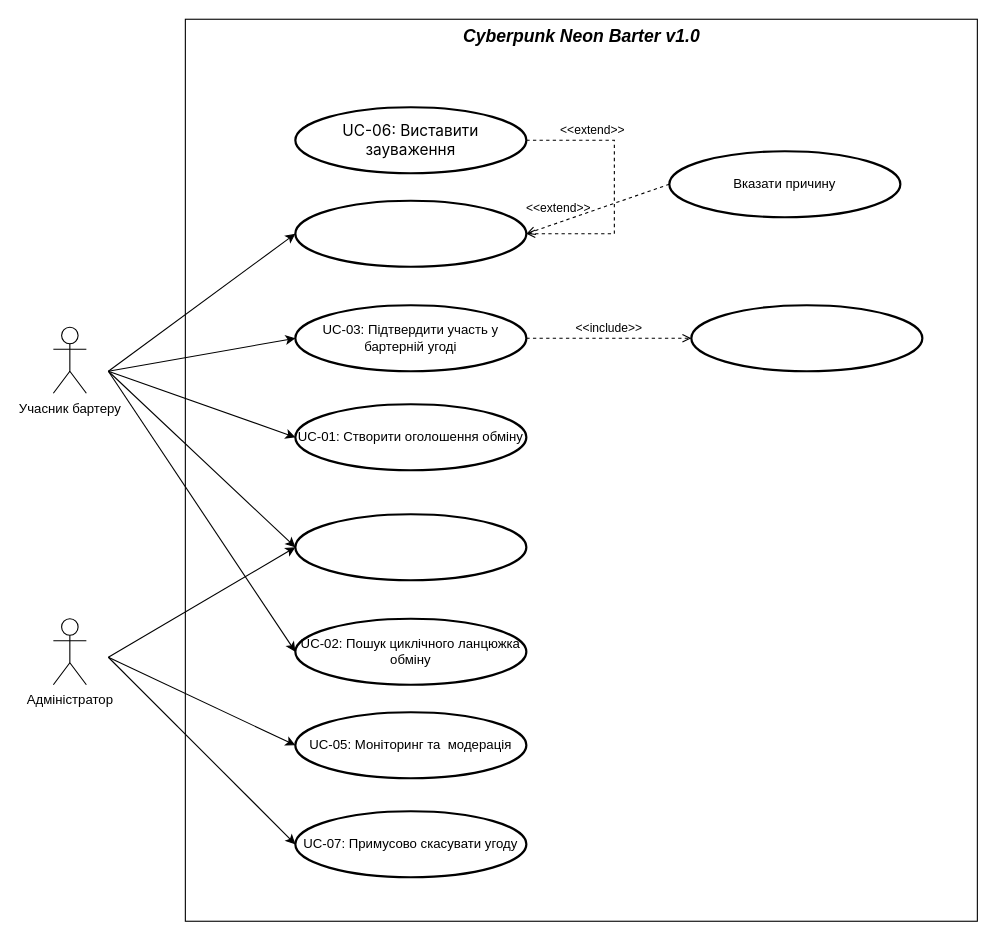
Some shapes in this 997 by 941 pixel diagram are drawn without their labels. The centre of each missing label's shape, as x and y in pixels:
"UC-04: Скасувати бартерну угоду" goes at [410,233].
"Авторизуватися в системі" goes at [410,547].
"Переглянути деталі ланцюжка" goes at [806,338].
